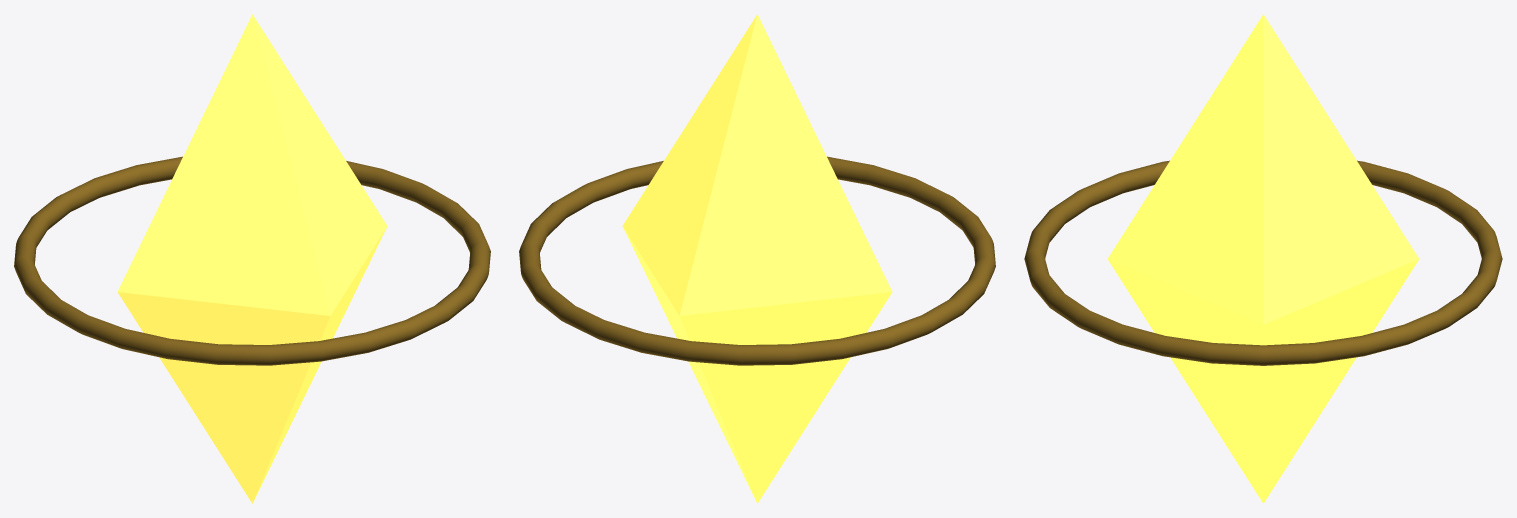
File: core.glb
3 views of the same model, side by side, from view 1: azimuth 30°, elevation 25°; view 2: azimuth 150°, elevation 25°; view 3: azimuth 270°, elevation 25° (orthographic).
Visible parts, largest first — view 1: root:glow, root:alloy; view 2: root:glow, root:alloy; view 3: root:glow, root:alloy.
Part boxes in pixels (x1,y1,x2,y2): root:glow: (117,14,387,503); root:alloy: (14,156,490,365); root:glow: (622,14,892,503); root:alloy: (519,156,995,365); root:glow: (1108,14,1418,503); root:alloy: (1024,160,1502,365).
Size of the model in its own units: 0.46 by 0.52 by 0.46.
